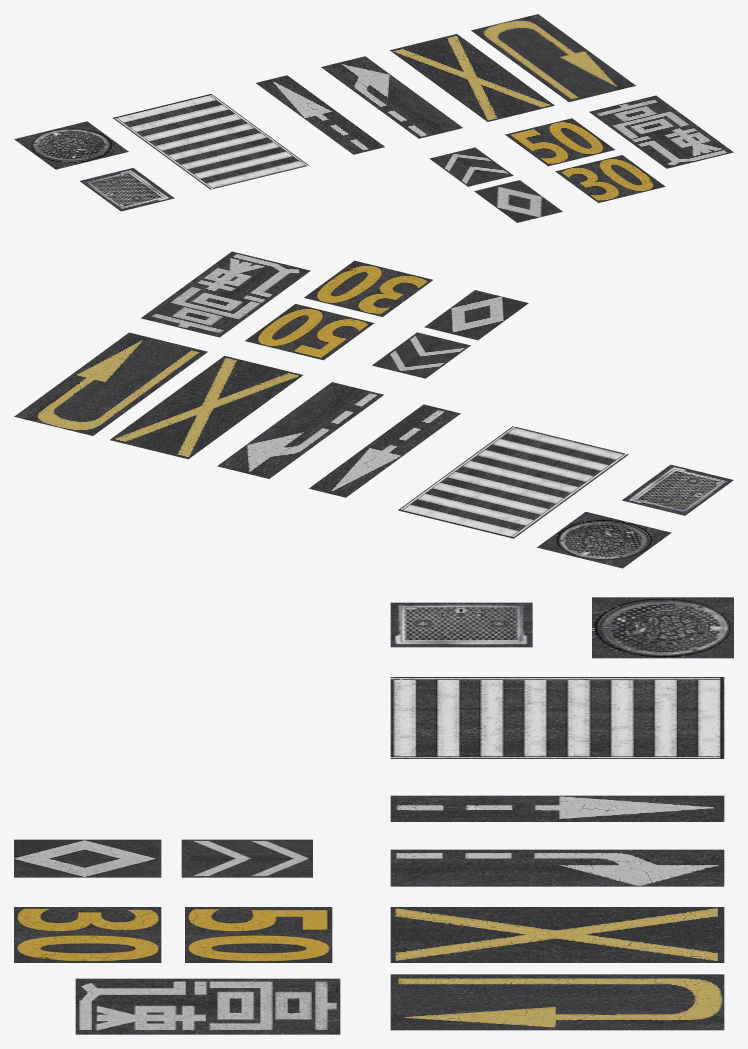
File: road_sign_ground.fbx
3 renders of one model, top to bottom at view 1: azimuth 30°, elevation 25°; view 2: azimuth 150°, elevation 25°; view 3: azimuth 270°, elevation 25°, orthographic. The views are drawn at different scales.
Parts seen in each view (by area): view 1: pPlane5, pPlane3, pPlane4, pPlane10, pPlane2, pPlane1, pPlane7, pPlane8, pPlane9, pPlane6, pPlane11, pPlane12; view 2: pPlane5, pPlane4, pPlane3, pPlane10, pPlane2, pPlane1, pPlane7, pPlane8, pPlane9, pPlane6, pPlane11, pPlane12; view 3: pPlane5, pPlane4, pPlane3, pPlane10, pPlane2, pPlane1, pPlane7, pPlane8, pPlane9, pPlane6, pPlane11, pPlane12.
Part boxes in pixels (bbox=[...]): pPlane5: bbox=[113, 94, 308, 189]; pPlane3: bbox=[390, 34, 554, 121]; pPlane4: bbox=[471, 14, 635, 101]; pPlane10: bbox=[589, 95, 733, 168]; pPlane2: bbox=[321, 56, 462, 138]; pPlane1: bbox=[256, 75, 384, 154]; pPlane7: bbox=[14, 121, 128, 169]; pPlane8: bbox=[505, 118, 614, 166]; pPlane9: bbox=[555, 155, 665, 202]; pPlane6: bbox=[80, 168, 174, 211]; pPlane11: bbox=[474, 180, 562, 222]; pPlane12: bbox=[429, 147, 513, 186]; pPlane5: bbox=[398, 426, 628, 538]; pPlane4: bbox=[14, 332, 207, 435]; pPlane3: bbox=[110, 356, 302, 459]; pPlane10: bbox=[141, 251, 310, 337]; pPlane2: bbox=[217, 382, 383, 478]; pPlane1: bbox=[309, 404, 460, 497]; pPlane7: bbox=[537, 512, 671, 568]; pPlane8: bbox=[245, 304, 374, 360]; pPlane9: bbox=[304, 260, 432, 316]; pPlane6: bbox=[622, 464, 733, 515]; pPlane11: bbox=[424, 290, 528, 340]; pPlane12: bbox=[372, 332, 470, 378]; pPlane5: bbox=[390, 677, 724, 758]; pPlane4: bbox=[390, 974, 724, 1030]; pPlane3: bbox=[390, 907, 724, 962]; pPlane10: bbox=[75, 978, 340, 1034]; pPlane2: bbox=[390, 849, 724, 886]; pPlane1: bbox=[390, 795, 724, 821]; pPlane7: bbox=[592, 597, 733, 658]; pPlane8: bbox=[185, 907, 332, 962]; pPlane9: bbox=[14, 907, 161, 962]; pPlane6: bbox=[390, 602, 532, 647]; pPlane11: bbox=[14, 839, 161, 877]; pPlane12: bbox=[181, 839, 312, 877].
Bounding box in the file's own units: 16.54 × 2.22e-16 × 11.52.
1 material, 1 textured.
